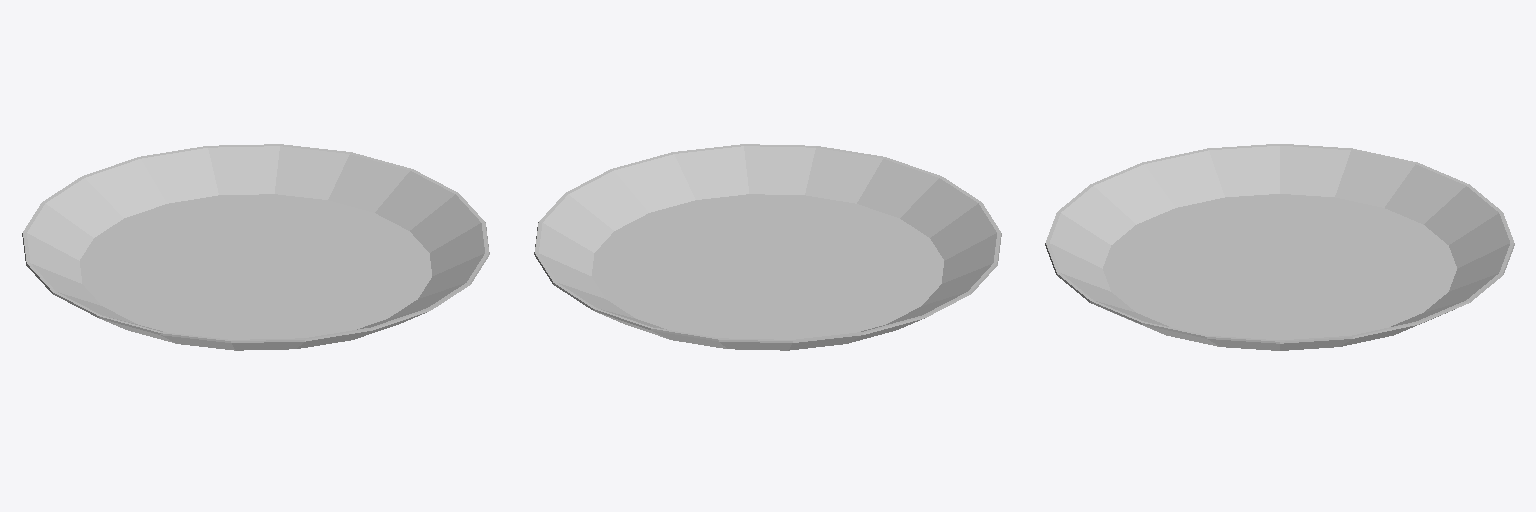
The model's file is Platob.obj.
The picture shows the model from 3 angles: view 1: azimuth 30°, elevation 25°; view 2: azimuth 150°, elevation 25°; view 3: azimuth 270°, elevation 25°; orthographic projection.
Parts seen in each view (by area): view 1: Platob; view 2: Platob; view 3: Platob.
Part boxes in pixels (left/top/right/bottom): Platob: left=22, top=144, right=489, bottom=350; Platob: left=534, top=144, right=1001, bottom=350; Platob: left=1045, top=144, right=1514, bottom=350.
Size of the model in its own units: 111 by 6.95 by 111.